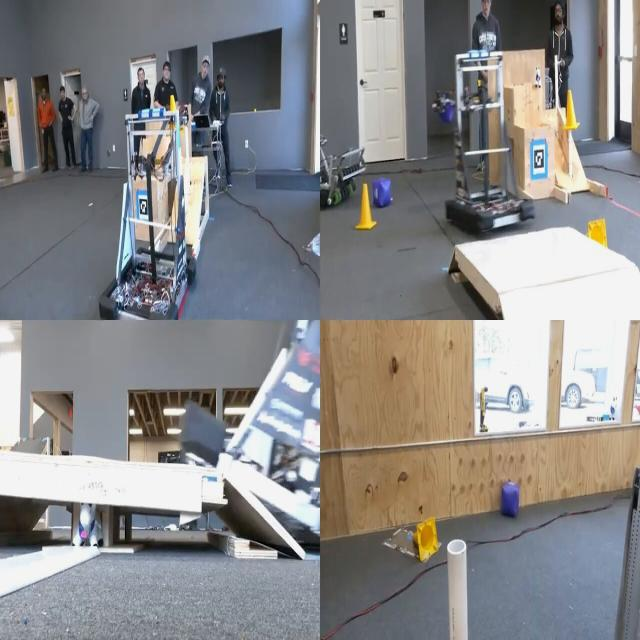frc_cone: (410, 512, 440, 564), (354, 181, 374, 236), (164, 91, 180, 131), (563, 87, 577, 131)
frc_cube: (492, 473, 522, 528), (585, 209, 610, 260), (376, 180, 390, 212)
